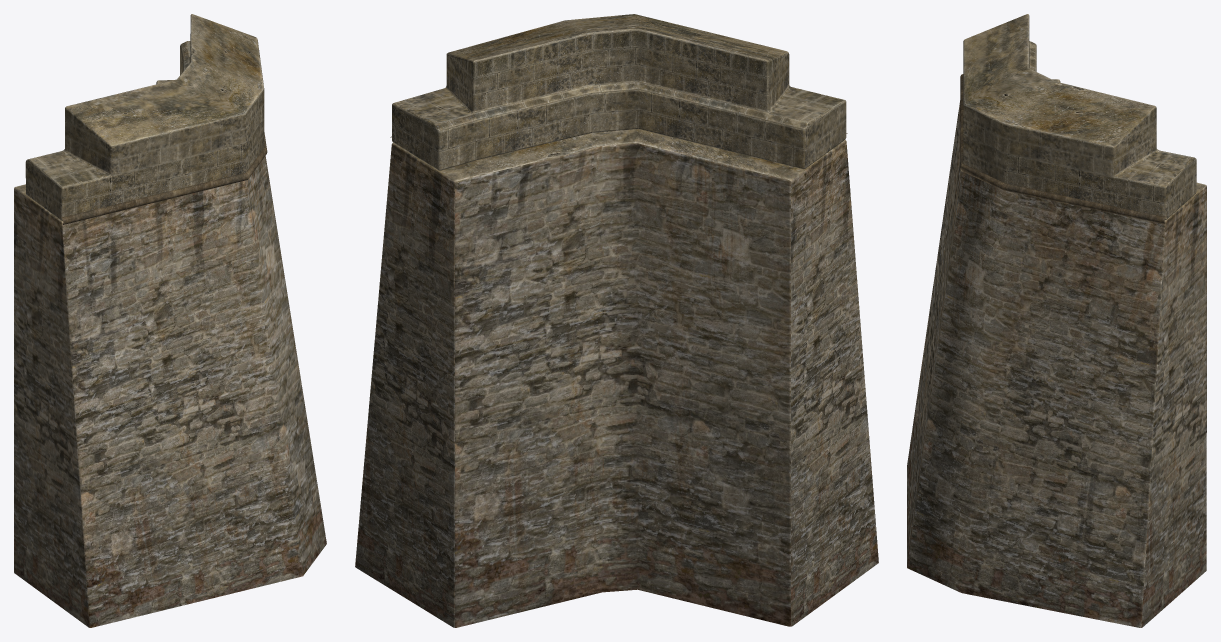
Rendered from modular_fort_01_wall_thin_corner_03.gltf.
3 views of the same model, side by side, from view 1: azimuth 30°, elevation 25°; view 2: azimuth 150°, elevation 25°; view 3: azimuth 270°, elevation 25° (orthographic). The views are drawn at different scales.
Visible parts, largest first — view 1: modular_fort_01_wall_thin_corner_03__x; view 2: modular_fort_01_wall_thin_corner_03__x; view 3: modular_fort_01_wall_thin_corner_03__x.
Part boxes in pixels (box(x1,y1,x2,y2)): modular_fort_01_wall_thin_corner_03__x: box(14, 14, 326, 627); modular_fort_01_wall_thin_corner_03__x: box(355, 14, 878, 627); modular_fort_01_wall_thin_corner_03__x: box(907, 14, 1206, 627).
Bounding box in the file's own units: 6.46 × 8.61 × 4.99.
2 materials, 2 textured.
